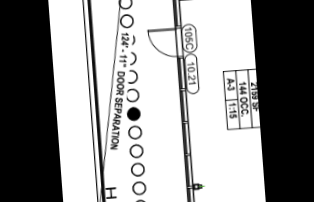door: (147, 26, 181, 60)
